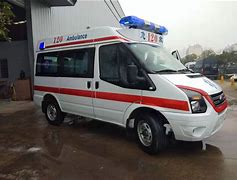specialcar: (25, 22, 218, 153)
